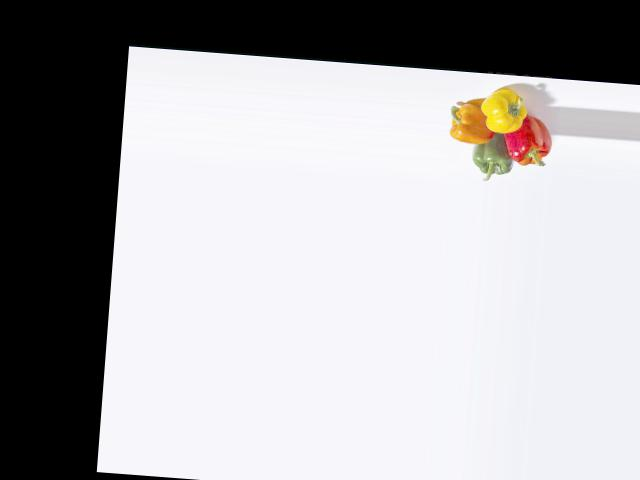bell_pepper: (502, 113, 555, 172)
